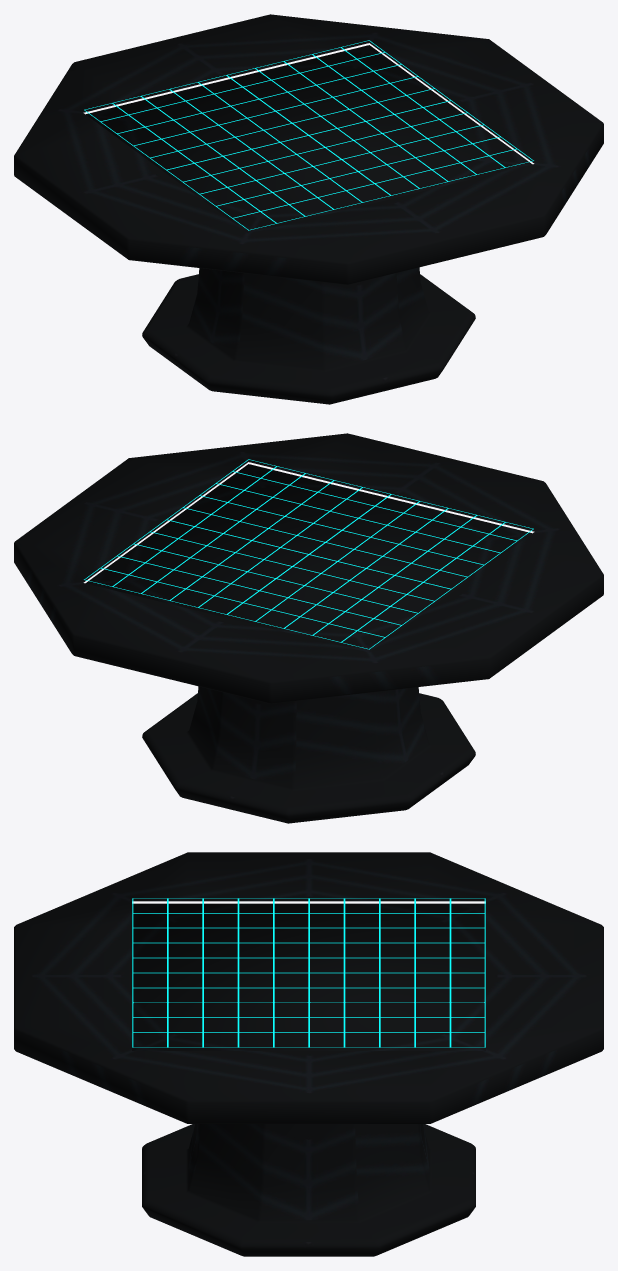
File: prop_core_gridwars_board.glb
The picture shows the model from 3 angles, top to bottom: view 1: azimuth 30°, elevation 25°; view 2: azimuth 150°, elevation 25°; view 3: azimuth 270°, elevation 25°; orthographic projection. The views are drawn at different scales.
Parts seen in each view (by area): view 1: board, grid; view 2: board, grid; view 3: board, grid.
Boxes of the visible parts, x1,y1,x2,y2 form: board: (14,14,603,404); grid: (84,40,533,230); board: (14,433,603,823); grid: (84,459,533,649); board: (14,852,603,1256); grid: (132,898,485,1047).
Size of the model in its own units: 2 by 0.812 by 2.
Materials: 2 (2 with a texture image).
